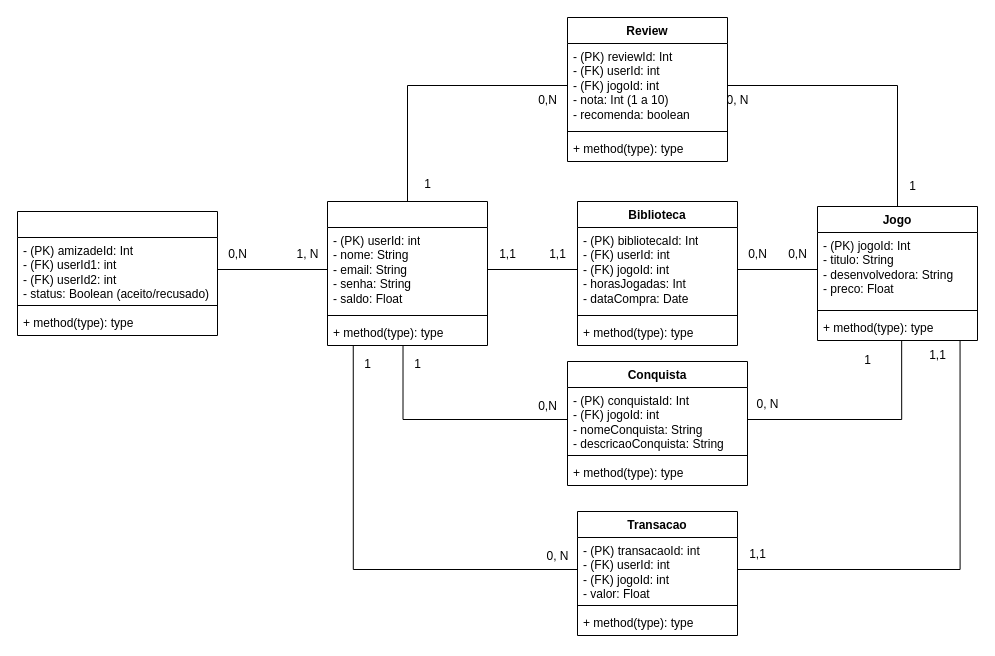
Image size: 995x656. Some labels were removed from this diagram. Here are the shapes that lost their labels. From the top down, the box of each, then its label:
(16, 210, 218, 336): Amigos
(326, 200, 488, 346): Usuario
